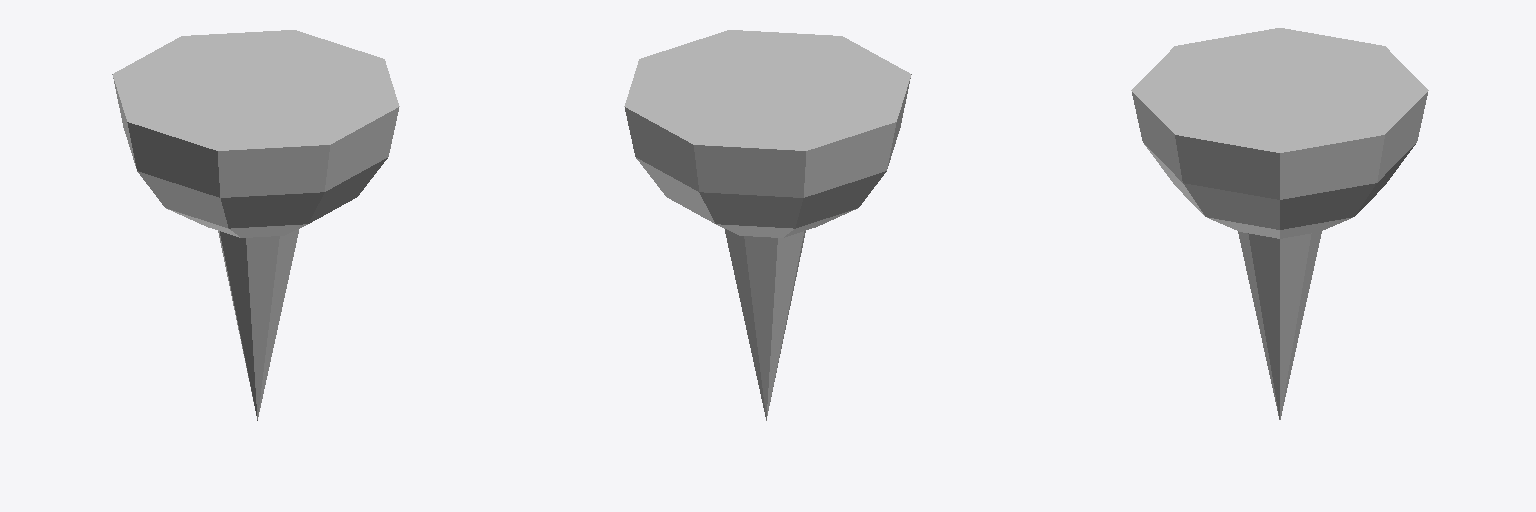
File: ss95_bound.obj
3 renders of one model, left to right at view 1: azimuth 30°, elevation 25°; view 2: azimuth 150°, elevation 25°; view 3: azimuth 270°, elevation 25°, orthographic.
Parts seen in each view (by area): view 1: frm-bound2, frm-bound1; view 2: frm-bound2, frm-bound1; view 3: frm-bound2, frm-bound1.
Part boxes in pixels (bbox=[...]): frm-bound2: bbox=[112, 30, 399, 237]; frm-bound1: bbox=[218, 229, 298, 420]; frm-bound2: bbox=[624, 30, 911, 237]; frm-bound1: bbox=[725, 229, 805, 420]; frm-bound2: bbox=[1131, 28, 1428, 238]; frm-bound1: bbox=[1238, 231, 1321, 419].
Bounding box in the file's own units: 5.92 × 7.27 × 5.92.